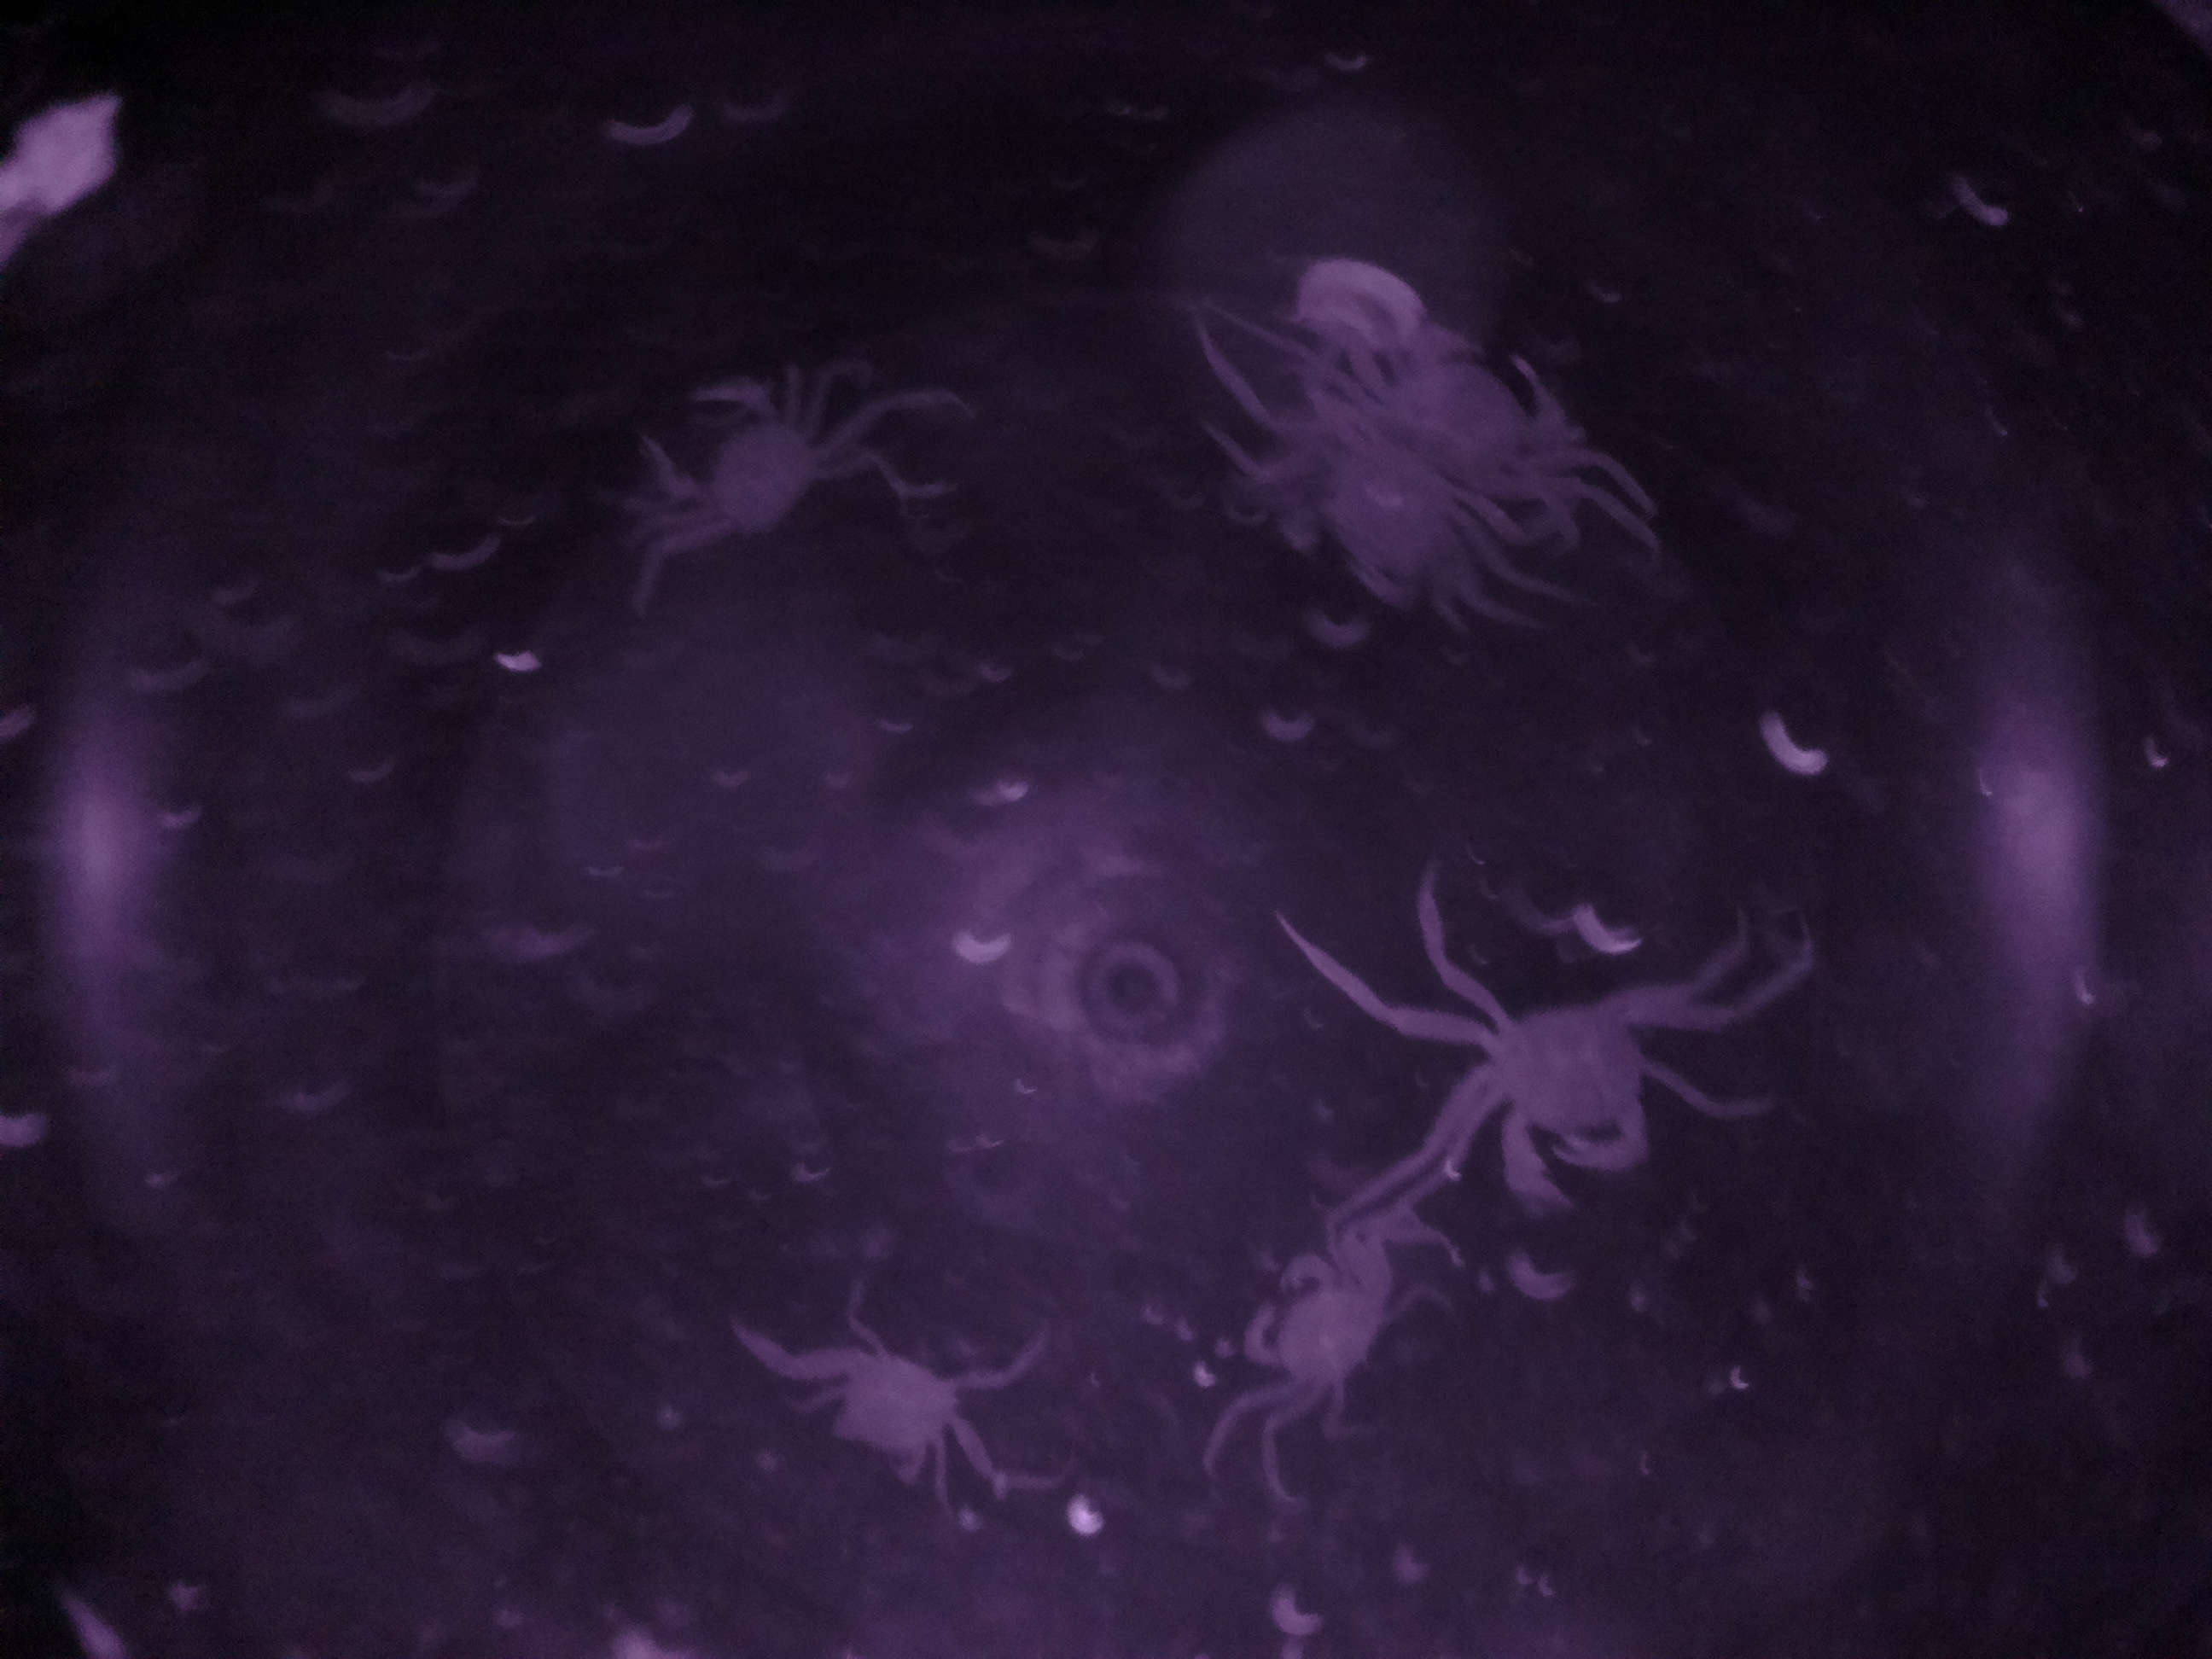Crab: (1426, 948, 1700, 1230), (1205, 1222, 1442, 1432)
